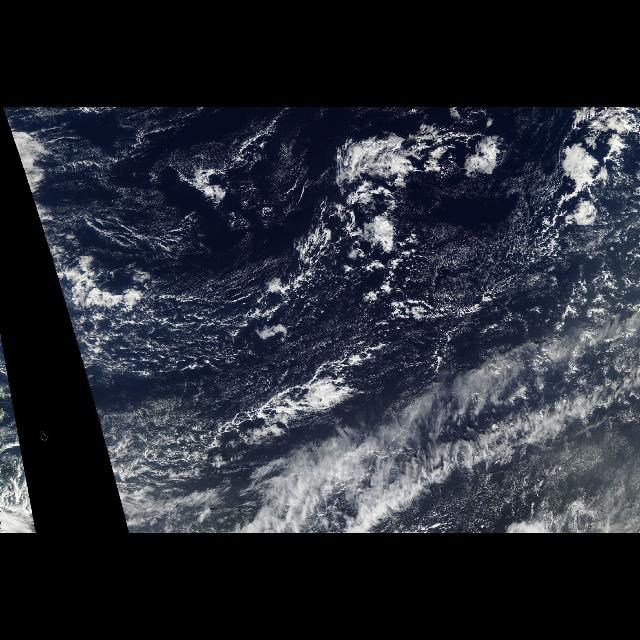Fish: (119, 314, 639, 534)
Sugar: (40, 110, 350, 378), (410, 184, 564, 310)
